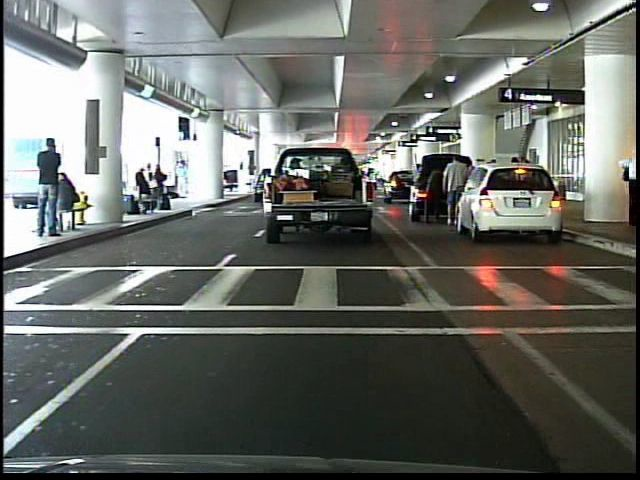person: (34, 135, 70, 242), (441, 153, 470, 230), (407, 159, 427, 209), (174, 159, 192, 202)
